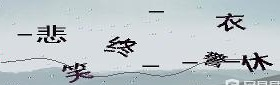chinese: (36, 23, 66, 46), (62, 61, 93, 83), (107, 34, 135, 58), (242, 52, 272, 74), (217, 10, 244, 34), (204, 48, 227, 71)
